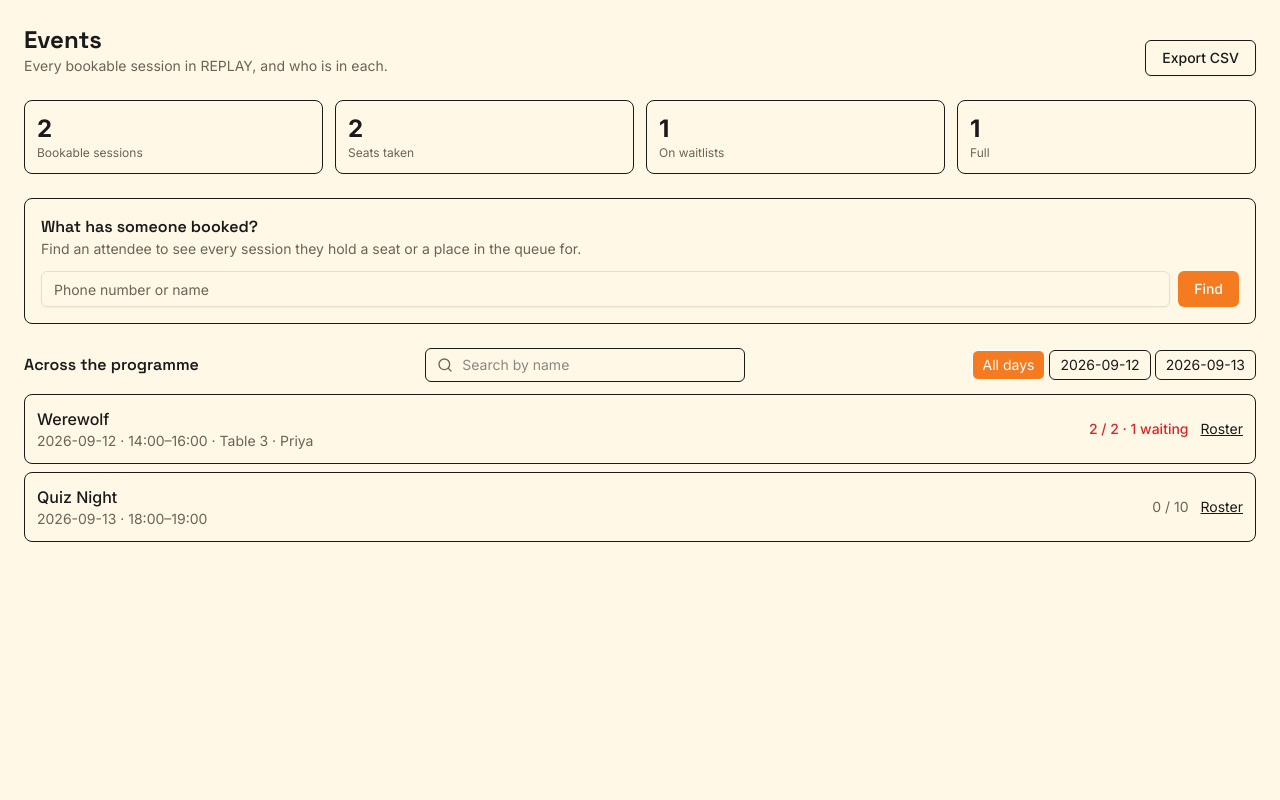
Test: what has this person booked › shows a queue place rather than implying a seat
Check: the text "Werewolf" is shown, box [37,409,109,429]
Type "Meera" into the field named "Find an attendee" at (606,289), box [41,271,1170,307]
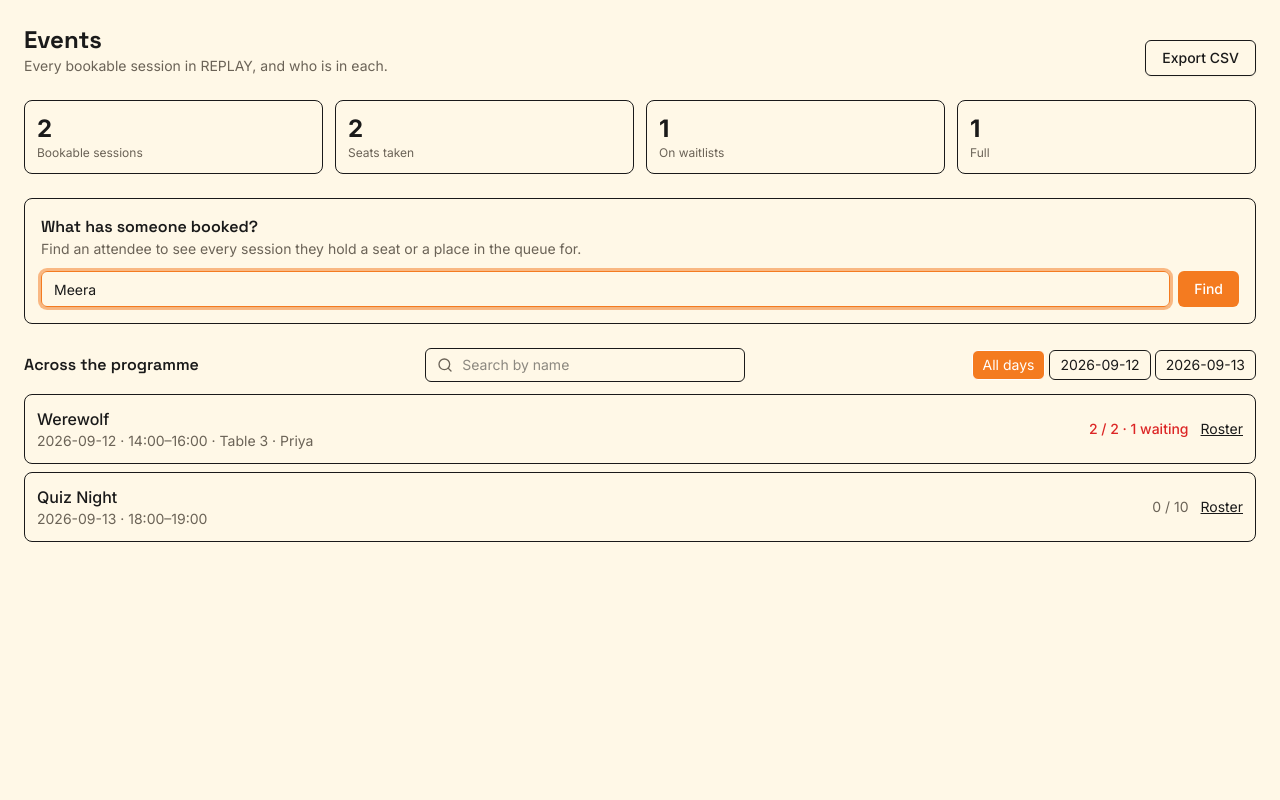
Click the button "Find" at (1209,289), box [1178,271,1239,307]
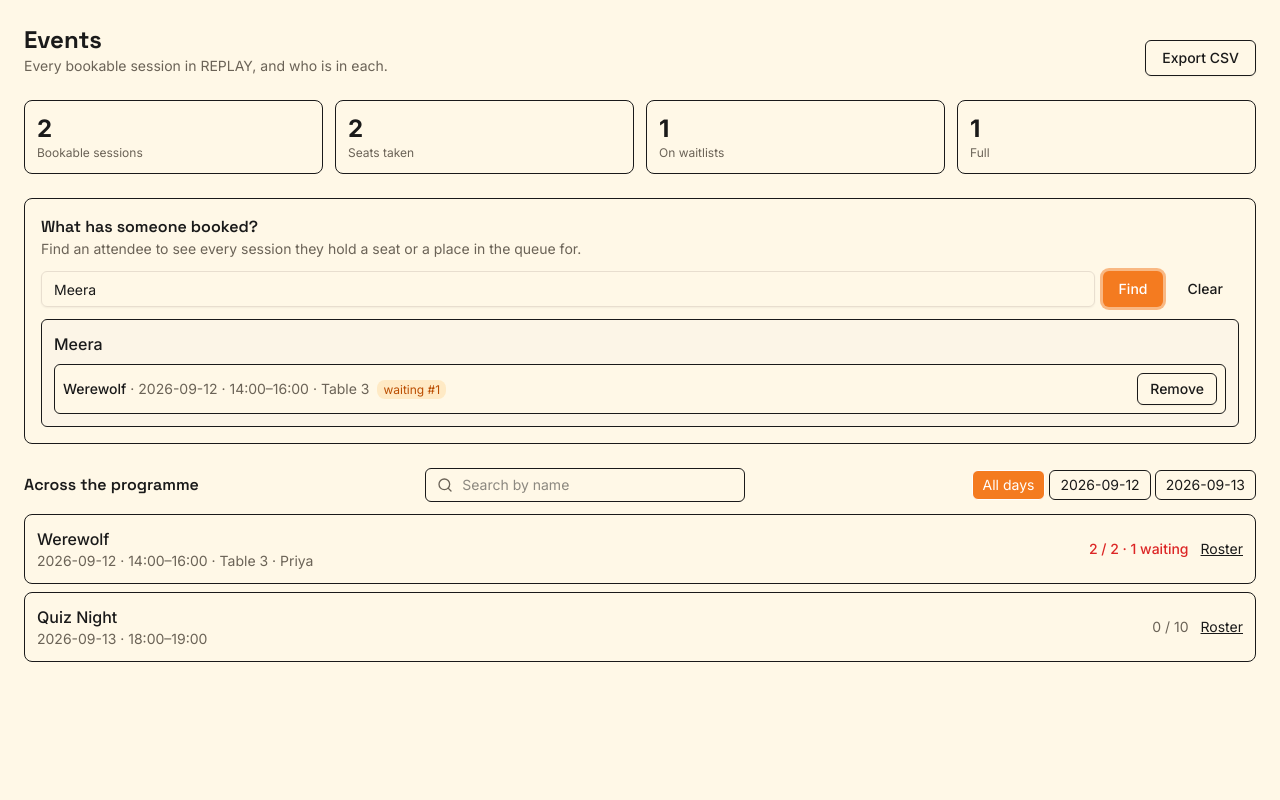
Check: the text "waiting #1" is shown, box [378,380,446,399]
